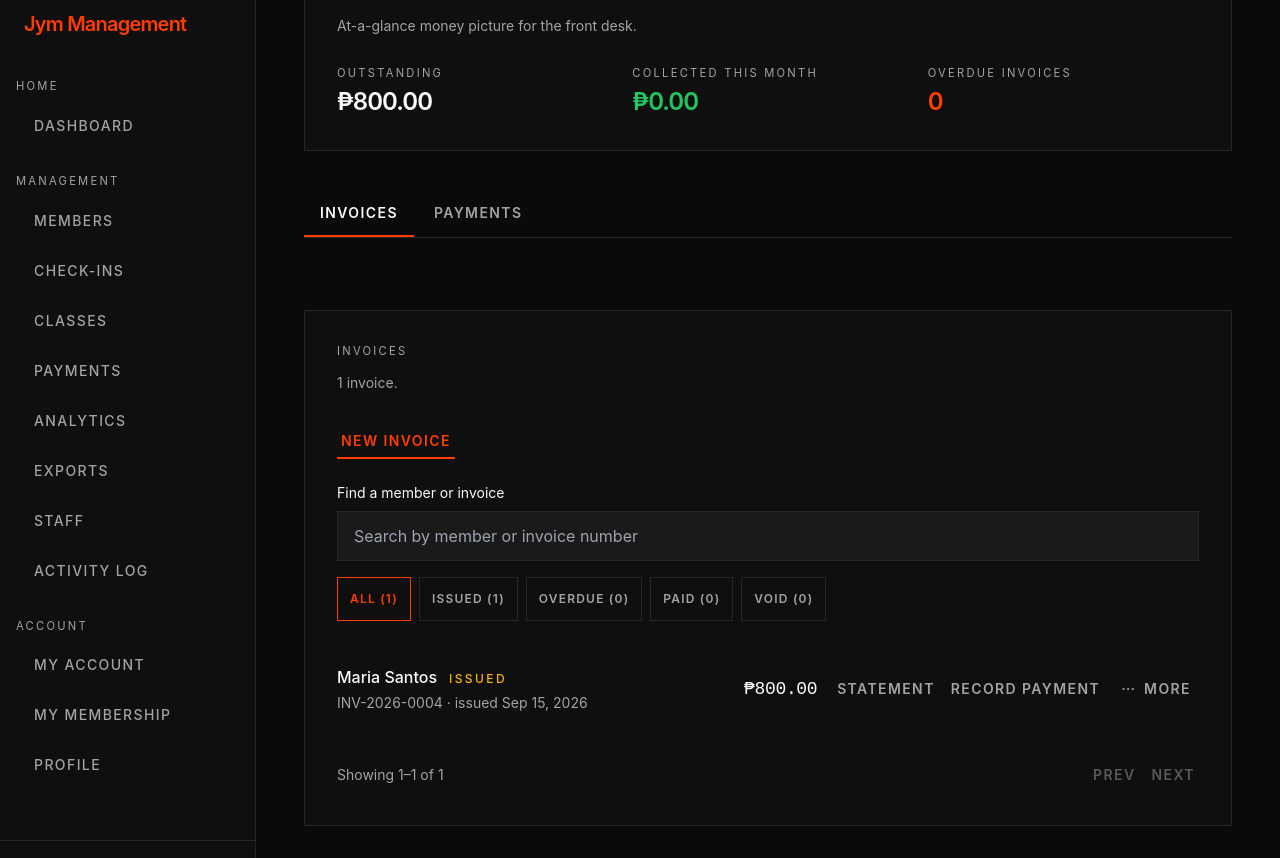
Test case: PaymentsPage › closes the payment panel when its invoice is voided
(page scrolled)
Click the button "Record payment": (1025, 689) [947, 671, 1104, 707]
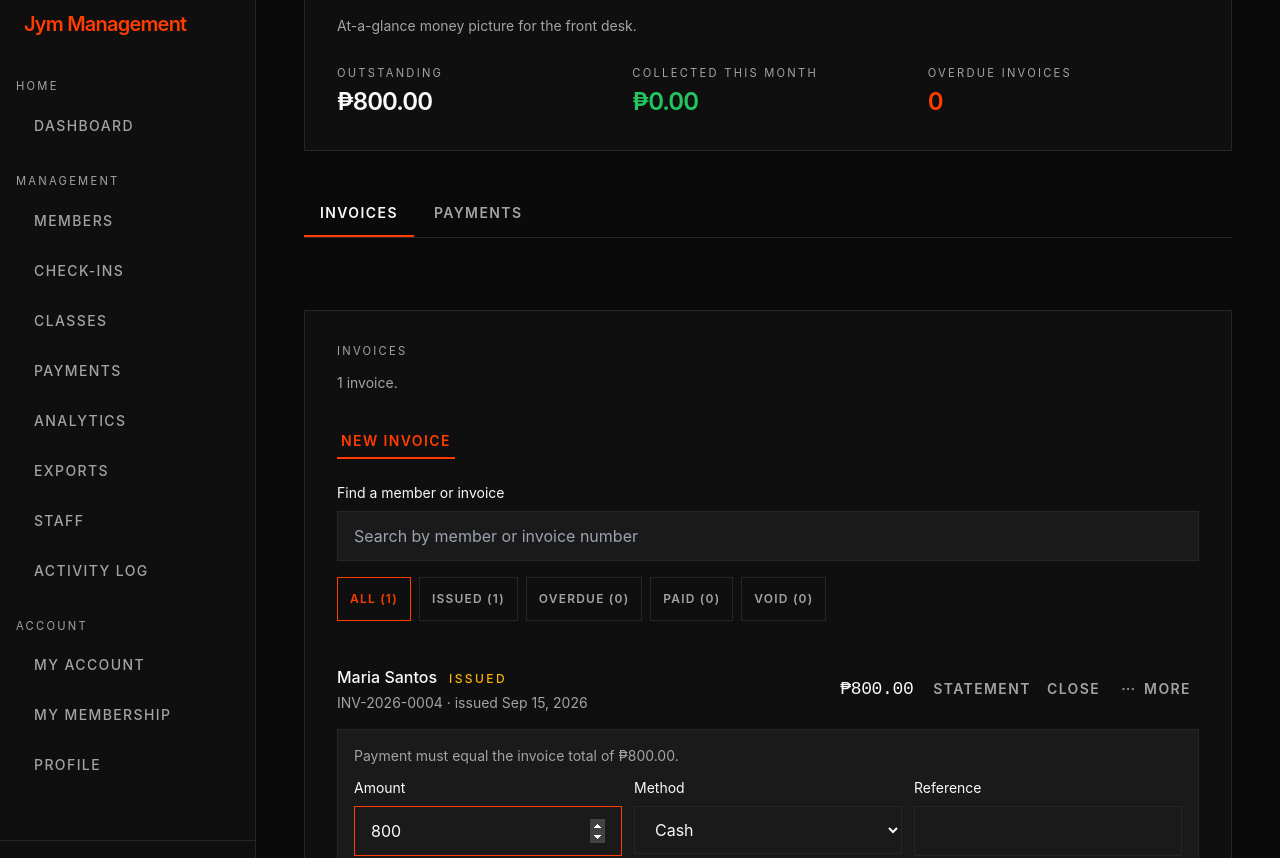
Click the button "More": (1156, 689) [1112, 671, 1199, 707]
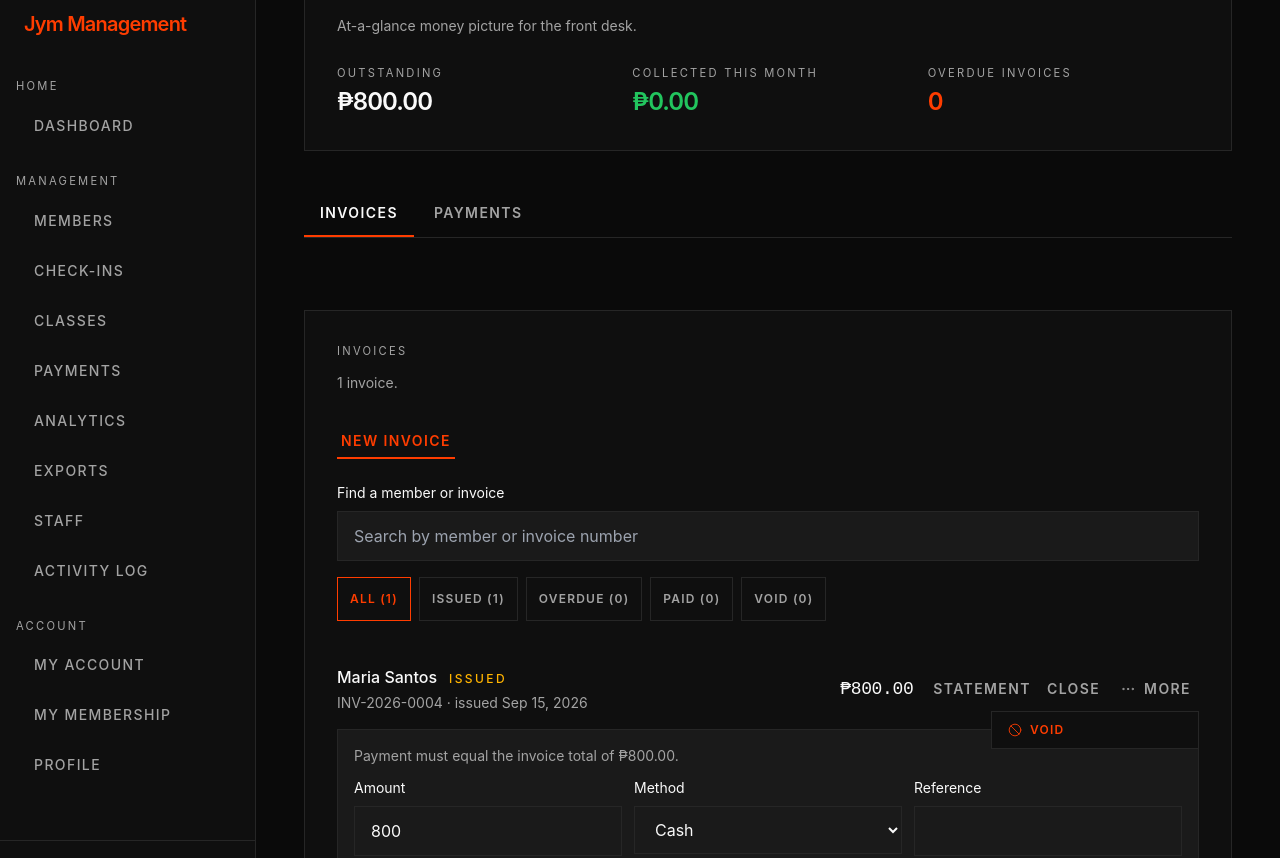
Click the menu item "Void": (1095, 730) [992, 712, 1198, 748]
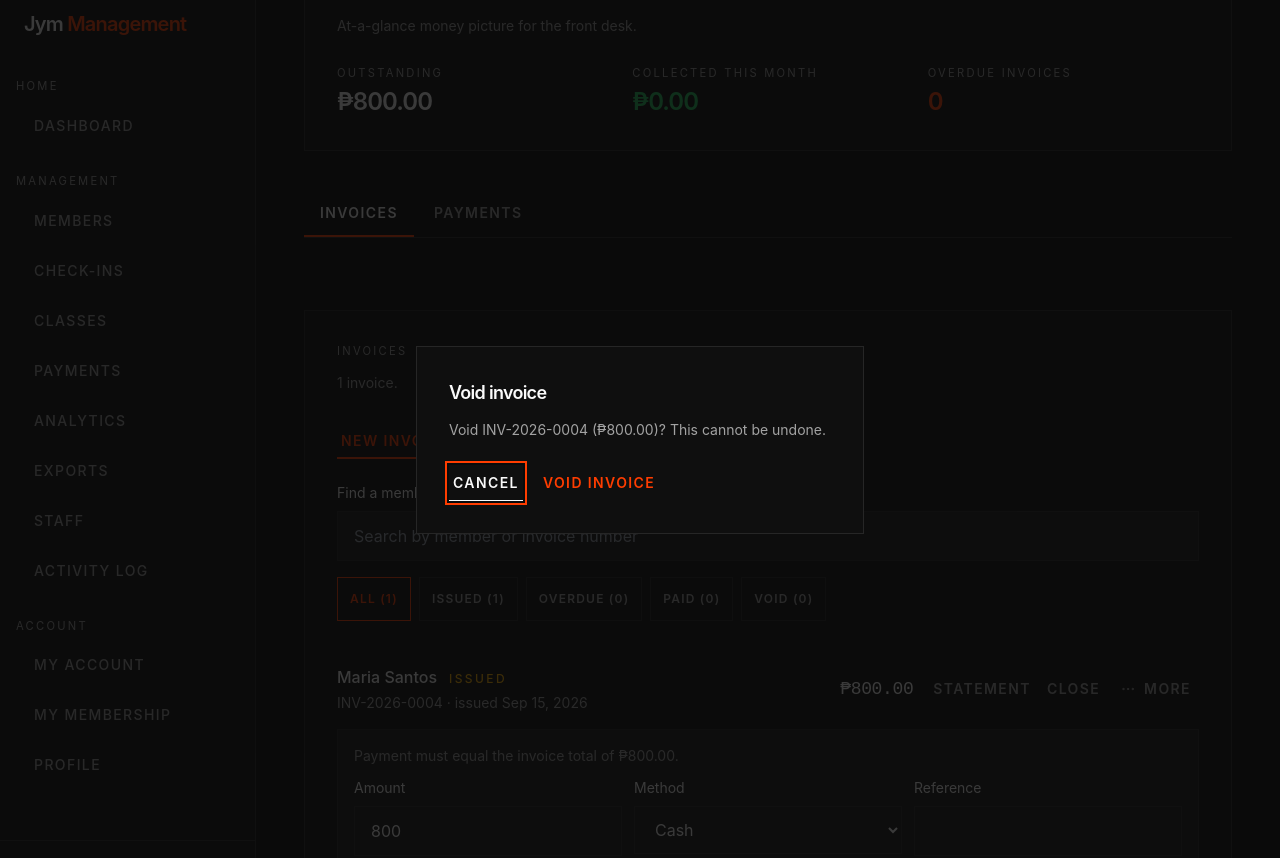
Click the button "Void invoice": (599, 483) [539, 465, 659, 501]
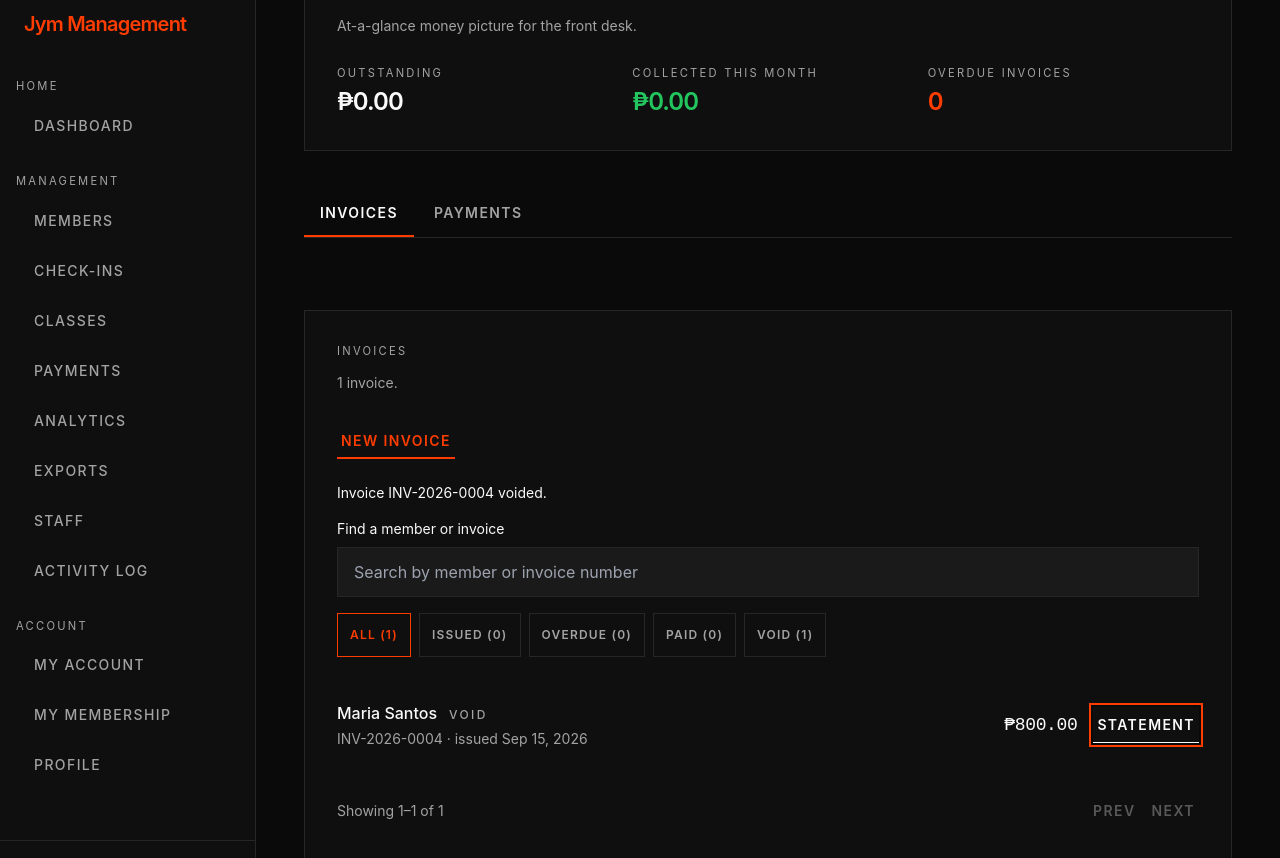
Check: the form "Record payment" is not shown
Check: the text "Invoice INV-2026-0004 voided." is shown, box [337, 484, 547, 501]
